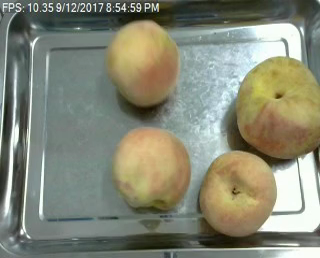Peach: (235, 54, 320, 157), (199, 150, 276, 238), (112, 126, 190, 211), (106, 19, 179, 107)
